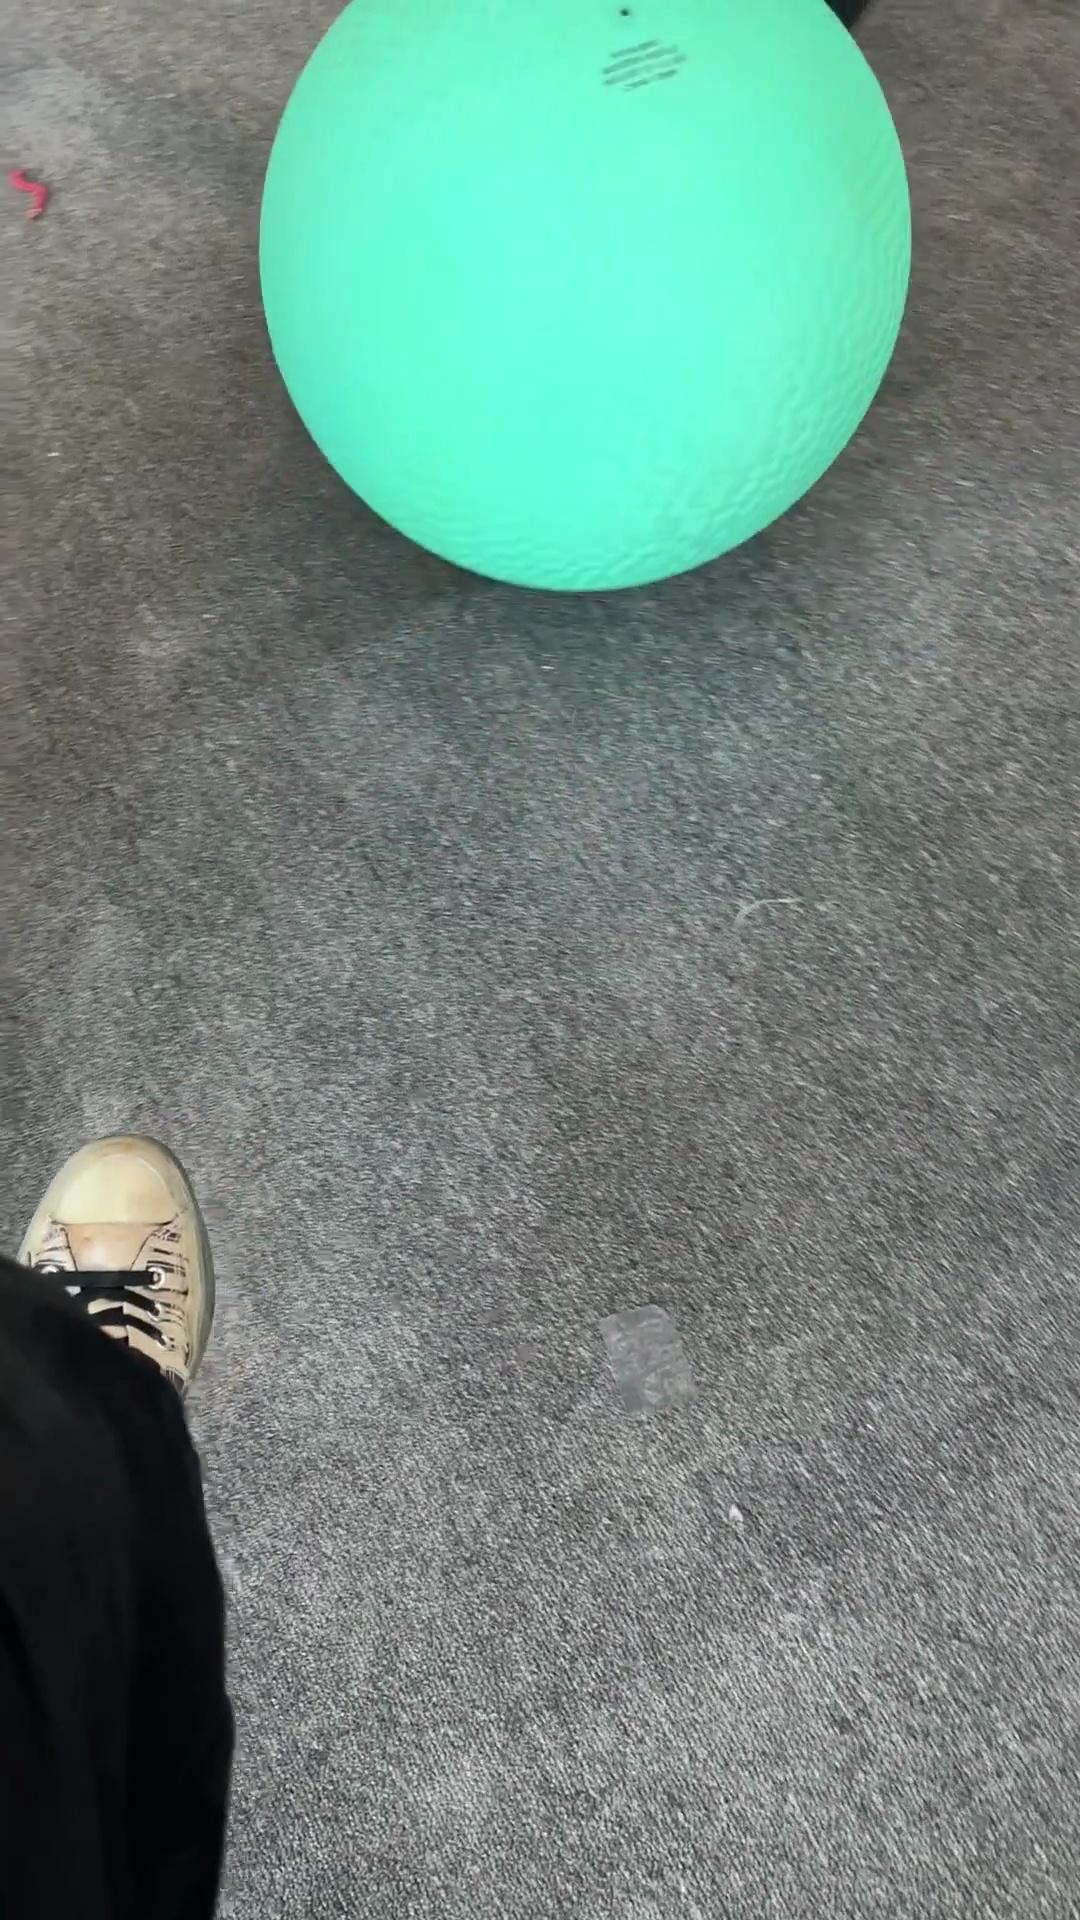ALGAE: (255, 0, 914, 594)
